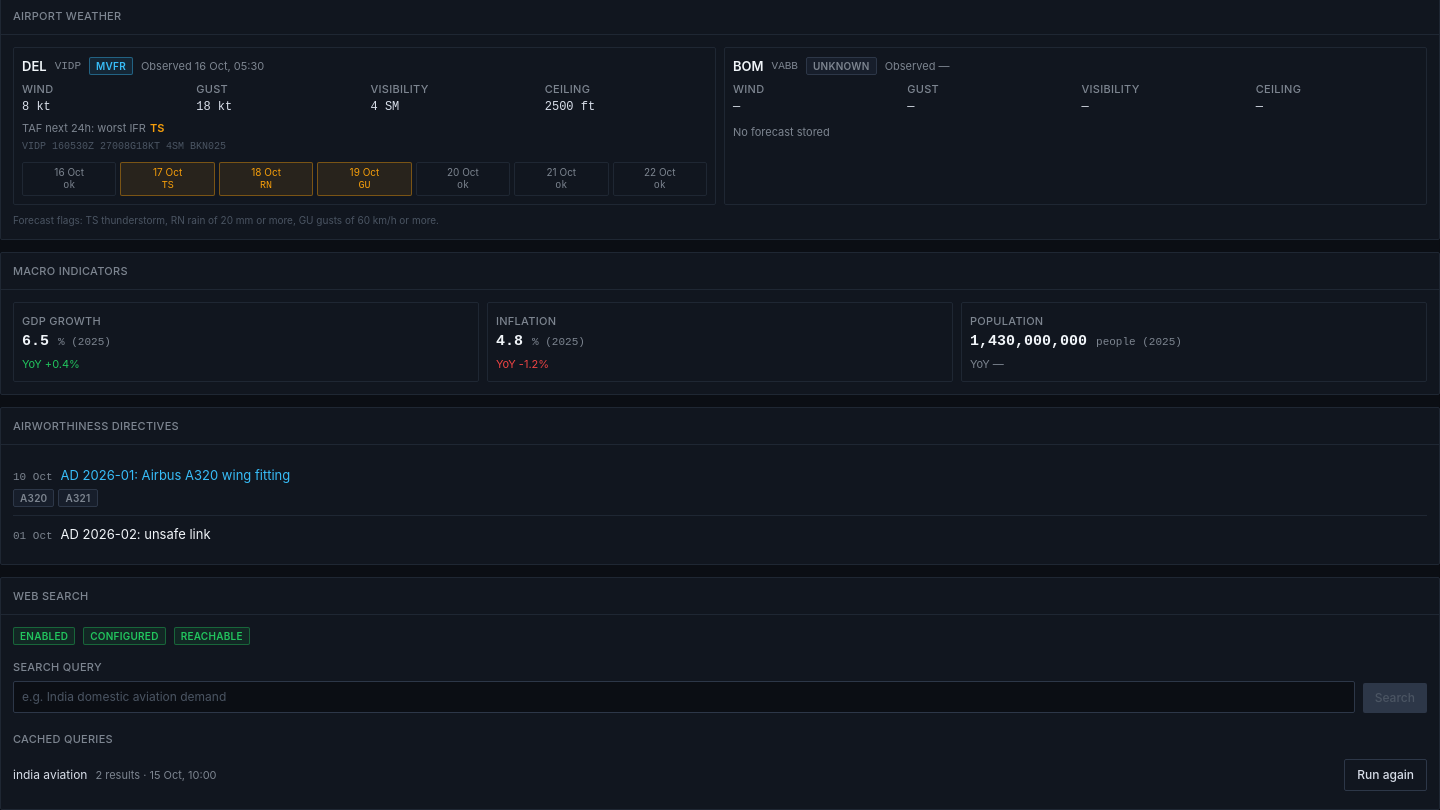
Test case: DataPage › shows a message when a search returns nothing
(page scrolled)
Type "x" into the field labelled "Search query" at (684, 697), box left=13, top=681, right=1355, bottom=713
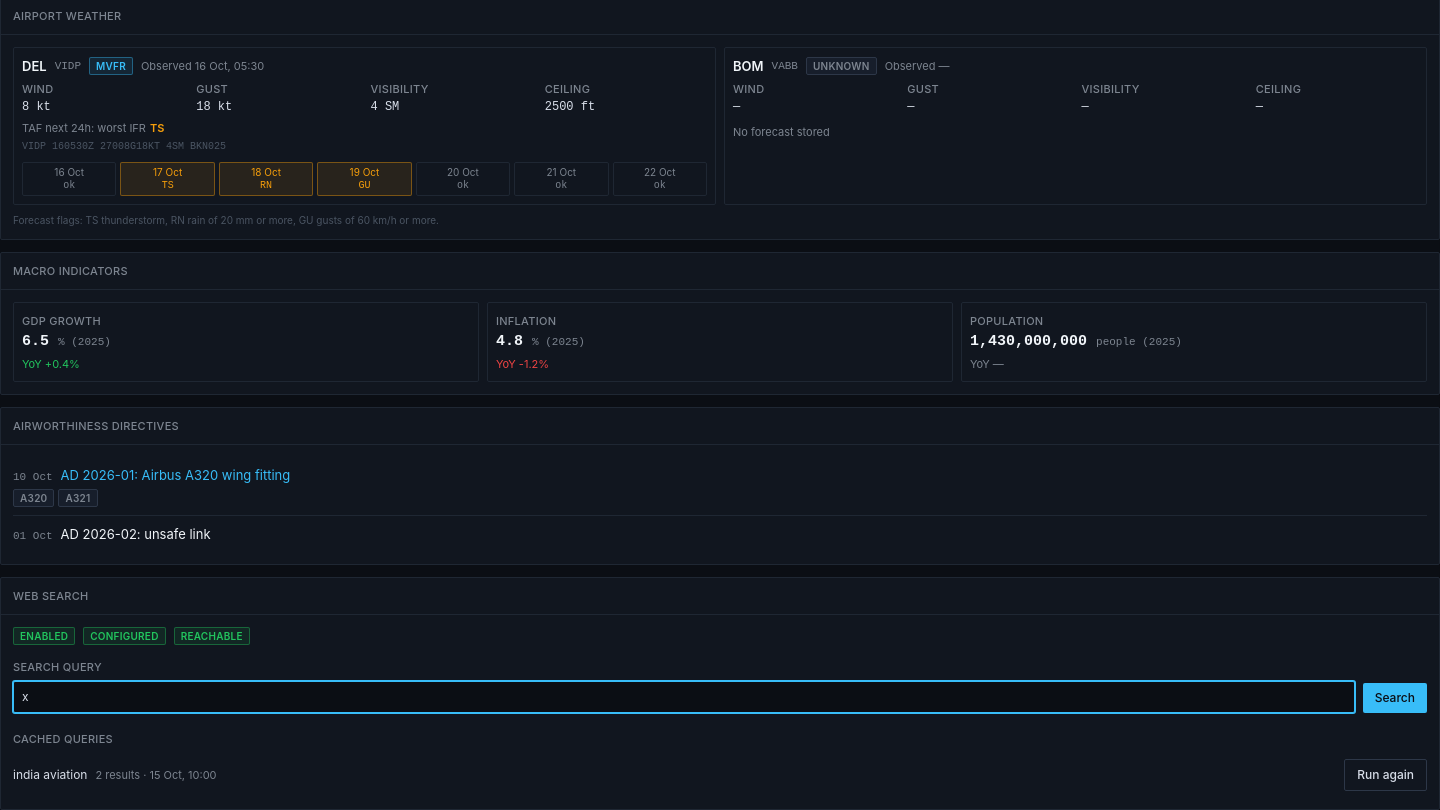
Click the button "Search" at (1395, 698), box left=1363, top=683, right=1427, bottom=713
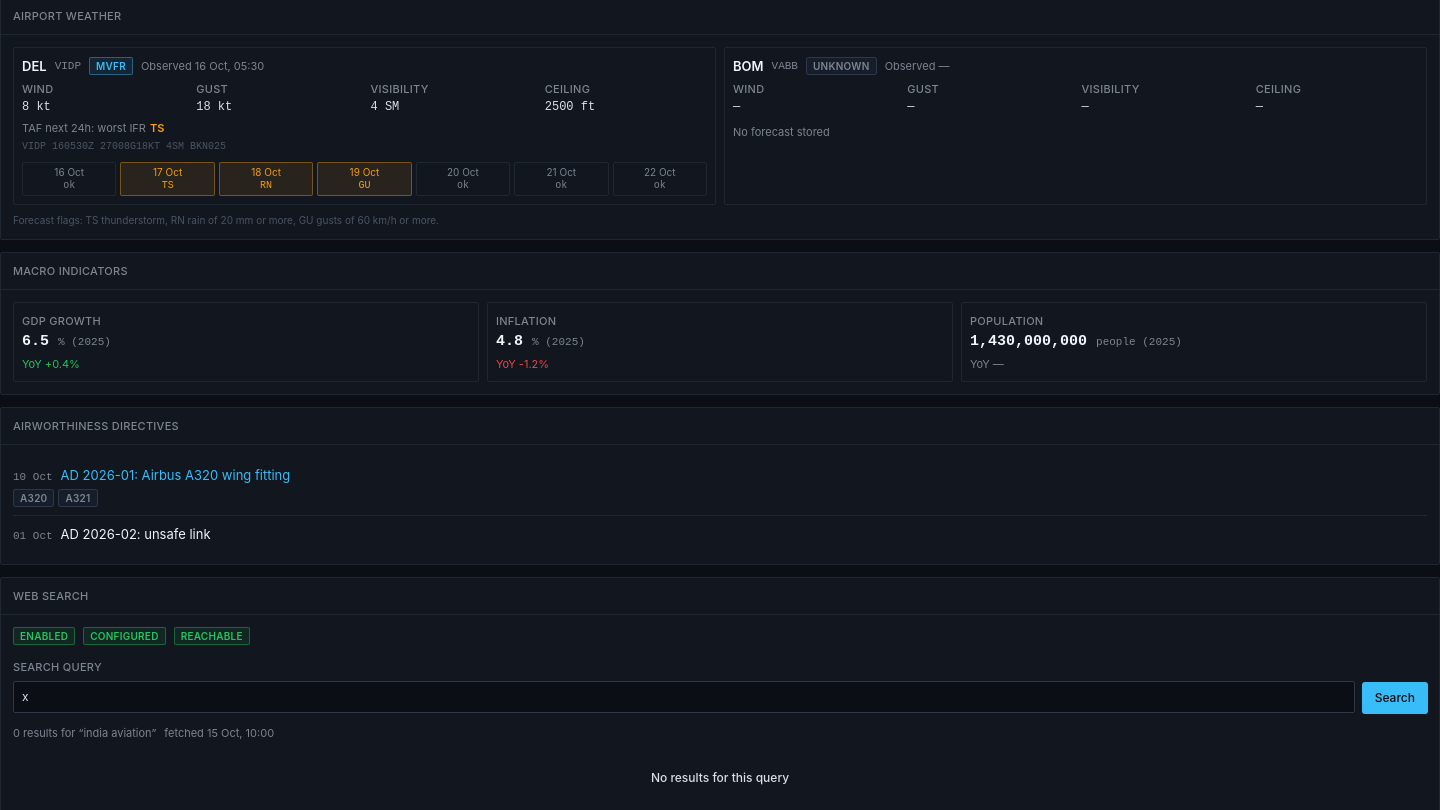
Expected: the text "No results for this query" is shown, left=651, top=769, right=789, bottom=787
